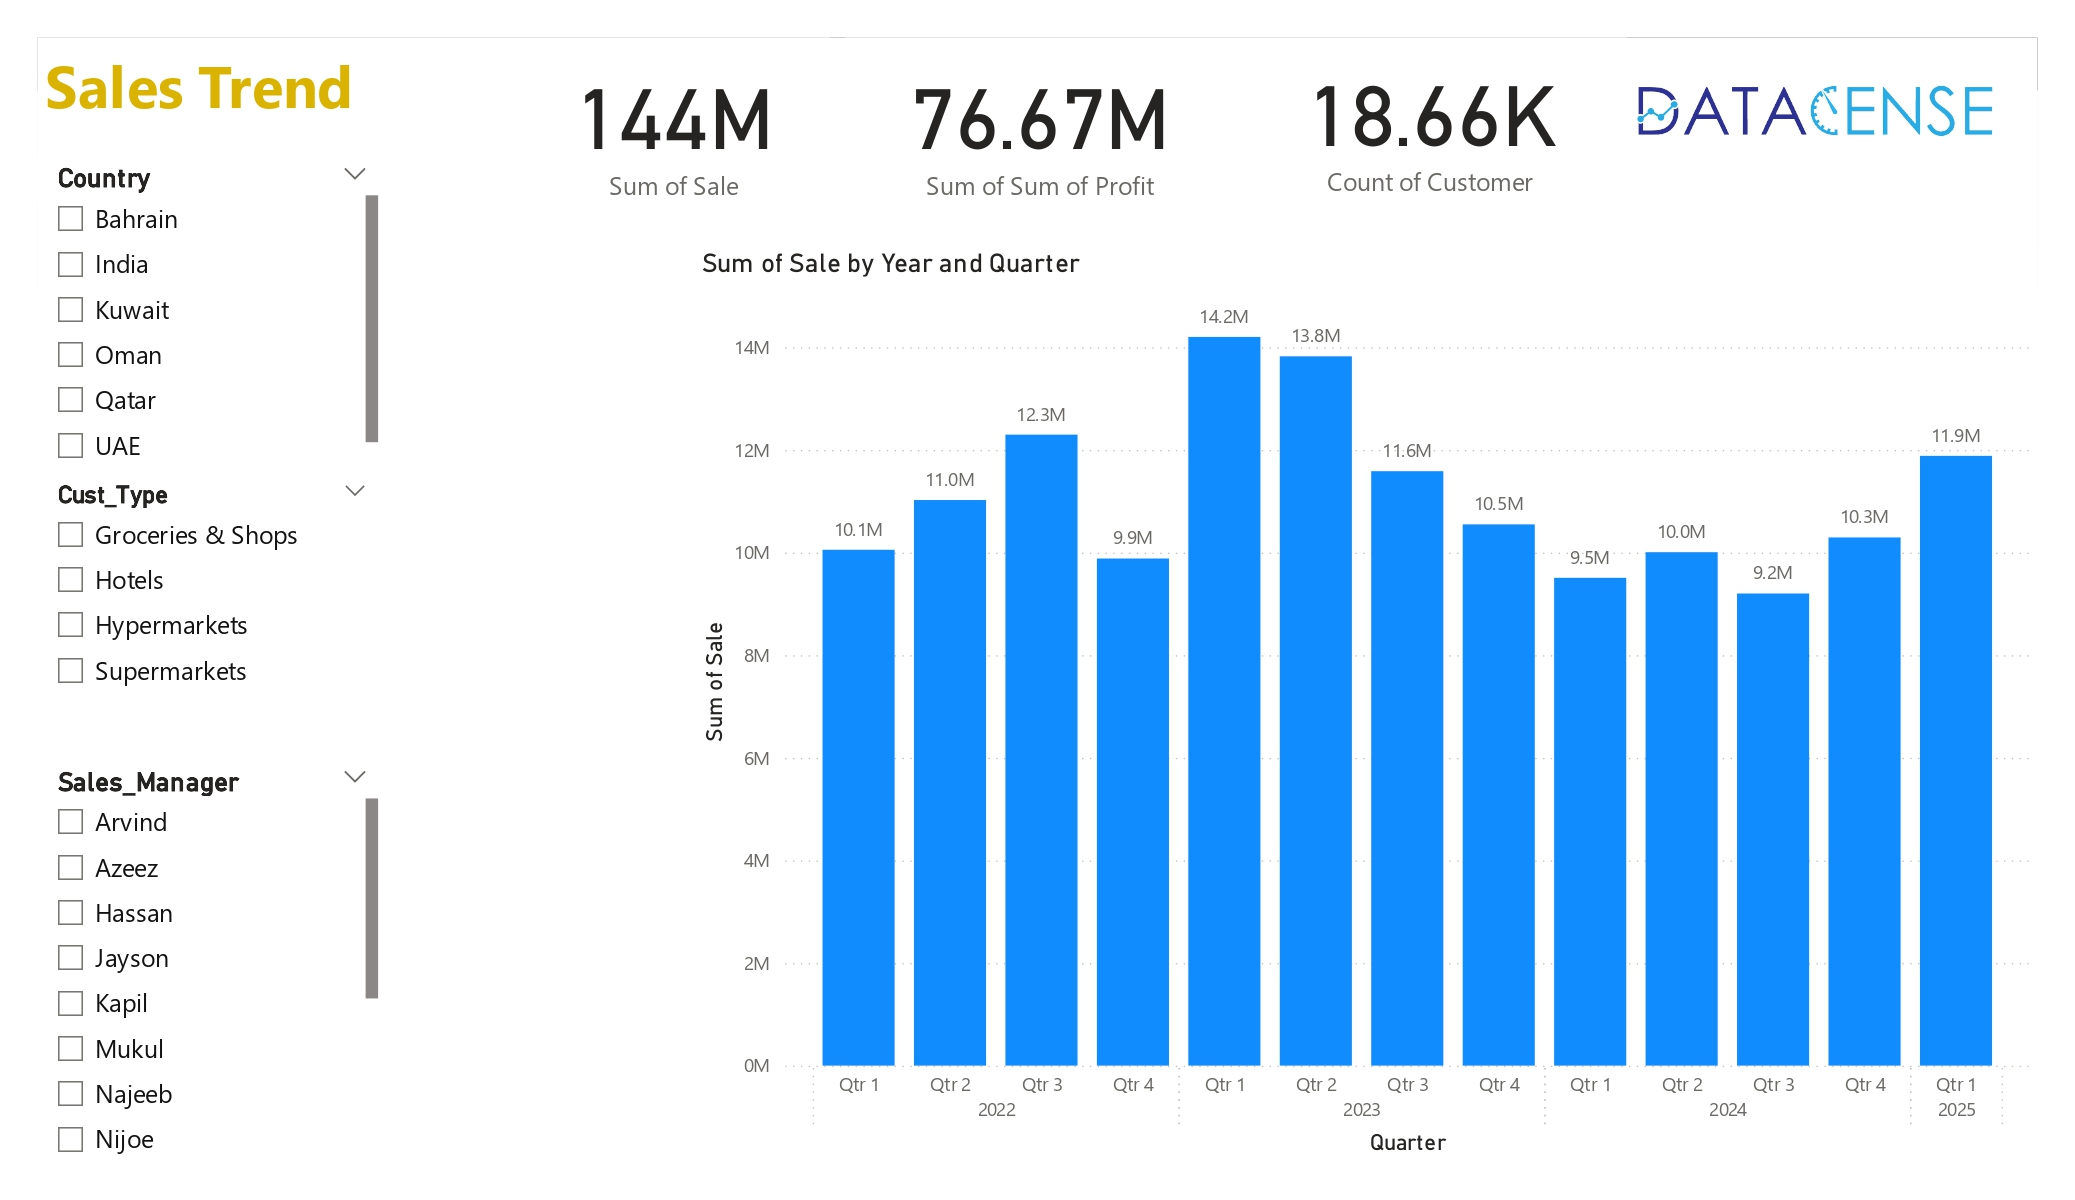

The dashboard page shown, as its layout file describes it:
{"tool":"powerbi","page":{"name":"Sales Trend","canvas":[1280,720],"ordinal":1},"visuals":[{"type":"image","box":[999.4,0,280.8,97.9],"z":0},{"type":"card","fields":{"Values":["CountNonNull(Transactions.Customer)"]},"box":[766.1,0,250.6,108],"z":1000},{"type":"card","fields":{"Values":["Sum(Transactions.Sale)"]},"box":[306.7,0,200.2,112.3],"z":2000},{"type":"textbox","box":[0,0,306.7,108],"z":3000},{"type":"card","fields":{"Values":["Sum(Transactions.Sum of Profit)"]},"box":[517,0,249.1,112.3],"z":4000},{"type":"columnChart","fields":{"Y":["Sum(Transactions.Sale)"],"Category":["Transactions.Invoice_Date.Variation.Date Hierarchy.Year","Transactions.Invoice_Date.Variation.Date Hierarchy.Quarter"]},"box":[420.5,133.9,859.7,586.1],"z":4001},{"type":"slicer","fields":{"Values":["Transactions.Country"]},"box":[0,74.9,223.2,201.6],"z":4002},{"type":"slicer","fields":{"Values":["Transactions.Sales_Manager"]},"box":[0,460.8,223.2,259.2],"z":4003},{"type":"slicer","fields":{"Values":["Transactions.Cust_Type"]},"box":[0,277.9,223.2,164.2],"z":4004}]}

Visuals, with their boxes on the page's 1280x720 design canvas (x1, y1, x2, y2). These are canvas units, not pixel positions in the 2075x1200 screenshot, which may show the page scaled, cropped or inside an application window:
image: x1=999 y1=0 x2=1280 y2=98
card - CountNonNull(Transactions.Customer): x1=766 y1=0 x2=1017 y2=108
card - Sum(Transactions.Sale): x1=307 y1=0 x2=507 y2=112
textbox: x1=0 y1=0 x2=307 y2=108
card - Sum(Transactions.Sum of Profit): x1=517 y1=0 x2=766 y2=112
columnChart - Sum(Transactions.Sale) x Transactions.Invoice_Date.Variation.Date Hierarchy.Year: x1=420 y1=134 x2=1280 y2=720
slicer - Transactions.Country: x1=0 y1=75 x2=223 y2=276
slicer - Transactions.Sales_Manager: x1=0 y1=461 x2=223 y2=720
slicer - Transactions.Cust_Type: x1=0 y1=278 x2=223 y2=442
